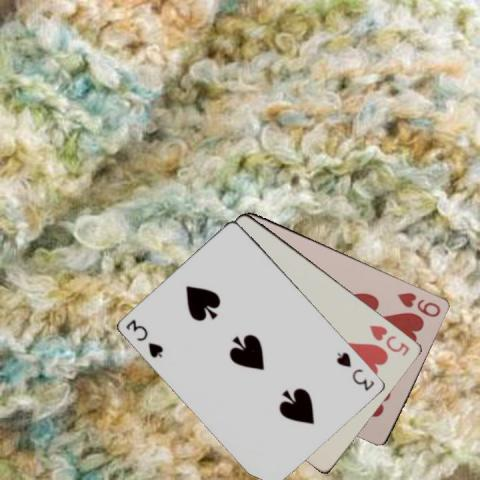3s: (334, 349, 377, 392), (123, 316, 166, 359)
5h: (367, 321, 411, 358)
9h: (394, 288, 442, 318)
